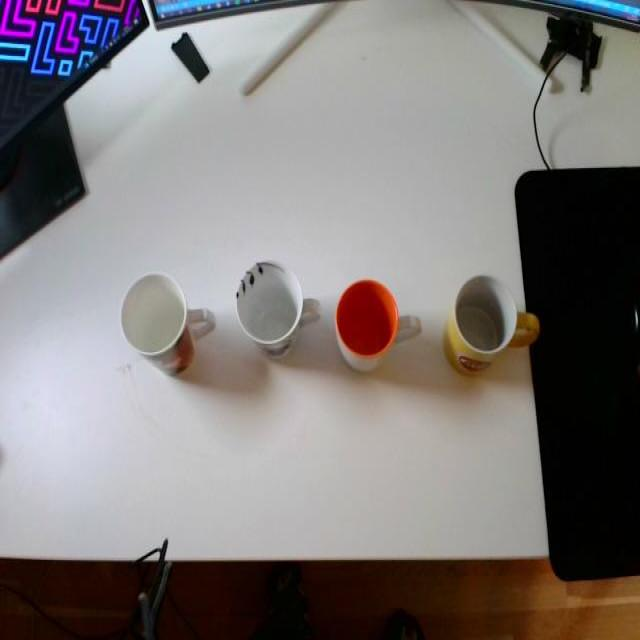cup: (109, 258, 216, 385), (442, 265, 542, 387), (230, 240, 321, 372), (331, 260, 421, 378)
